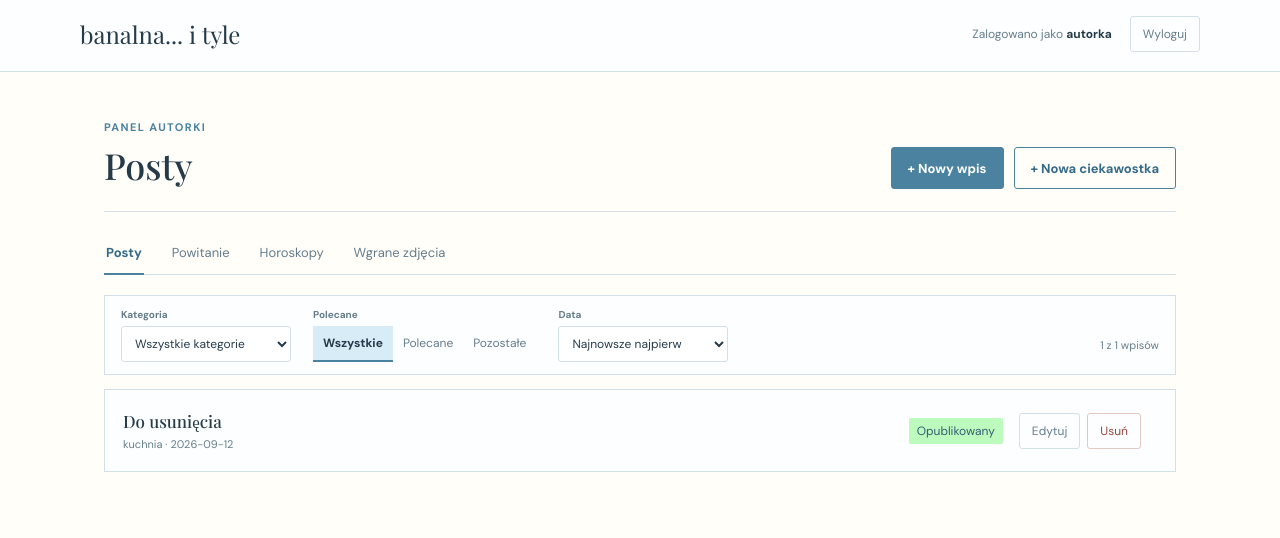
AuthorDashboard › deletes a post after confirmation
The image size is (1280, 538).
What coordinates should you click on to do the following:
click the button "Usuń"
I would click on:
 (1114, 430)
Its box is [1087, 412, 1141, 448].
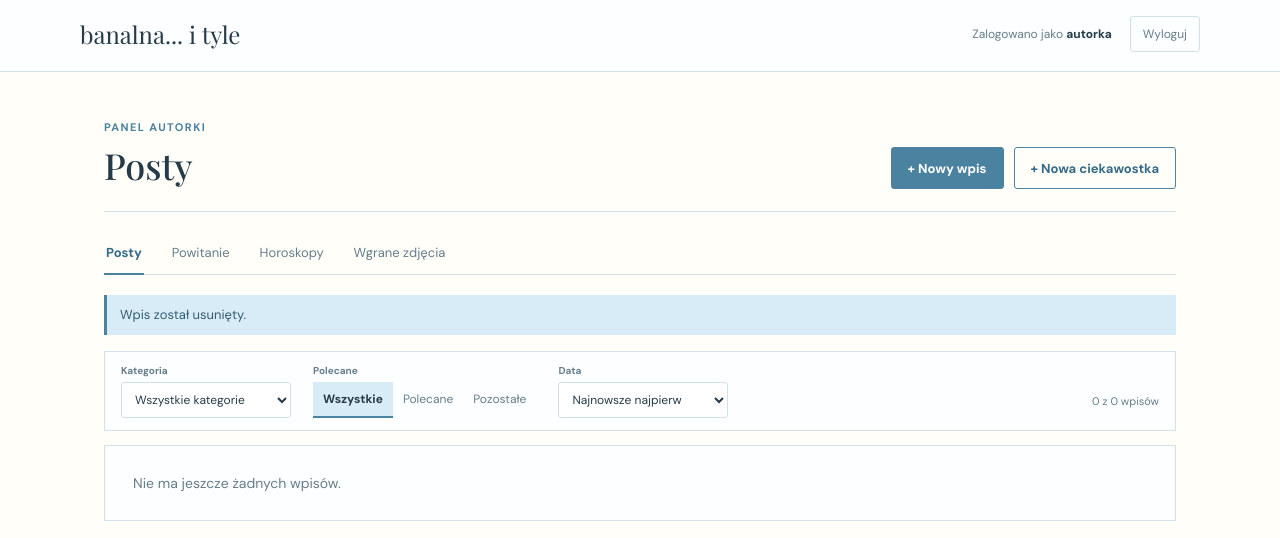
Now the heading "Do usunięcia" is gone
Now the text "Wpis został usunięty." is shown, box [104, 295, 1176, 334]
